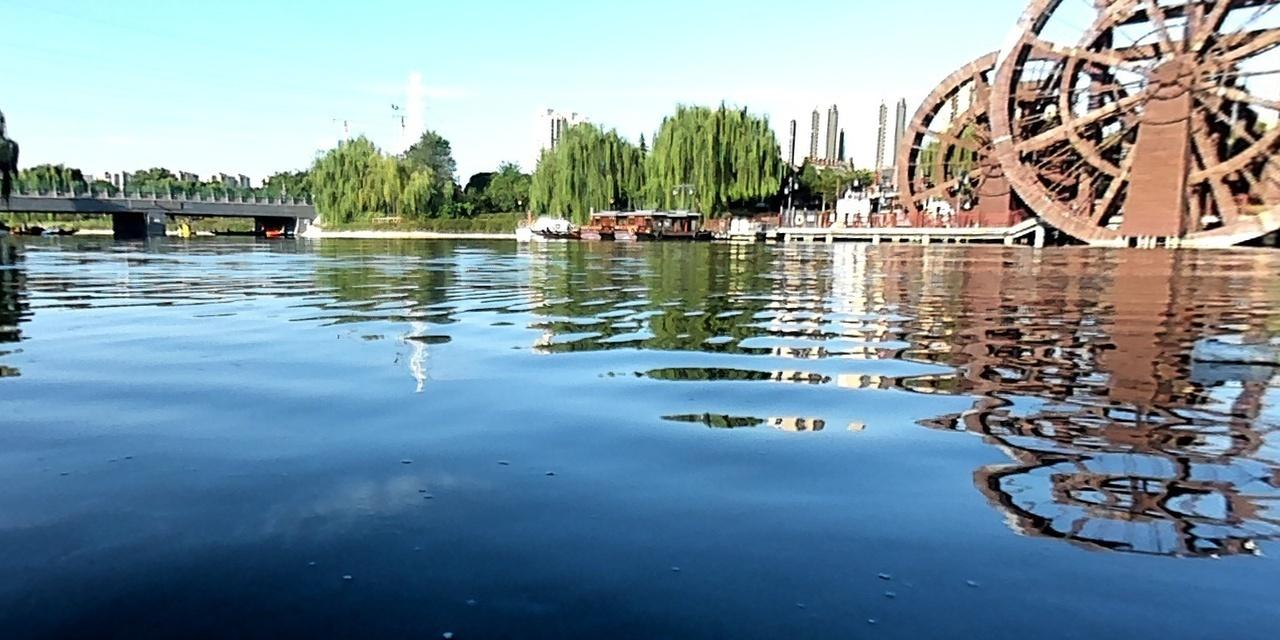bottle: (1188, 332, 1279, 367)
